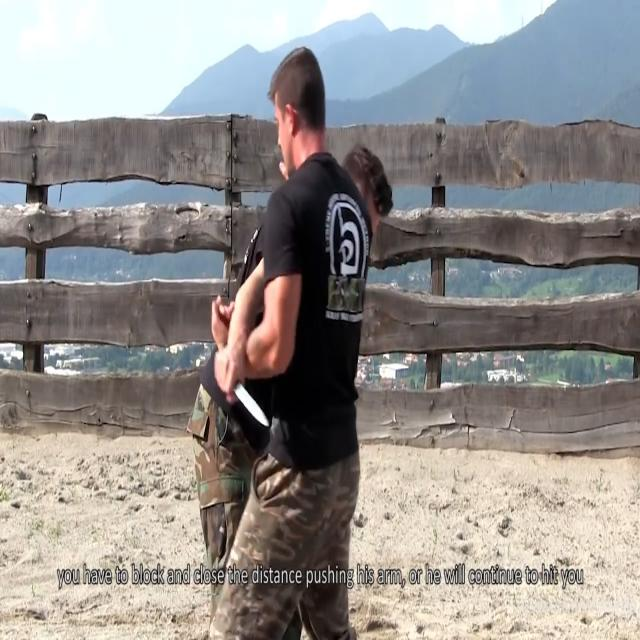knife: (235, 382, 273, 432)
